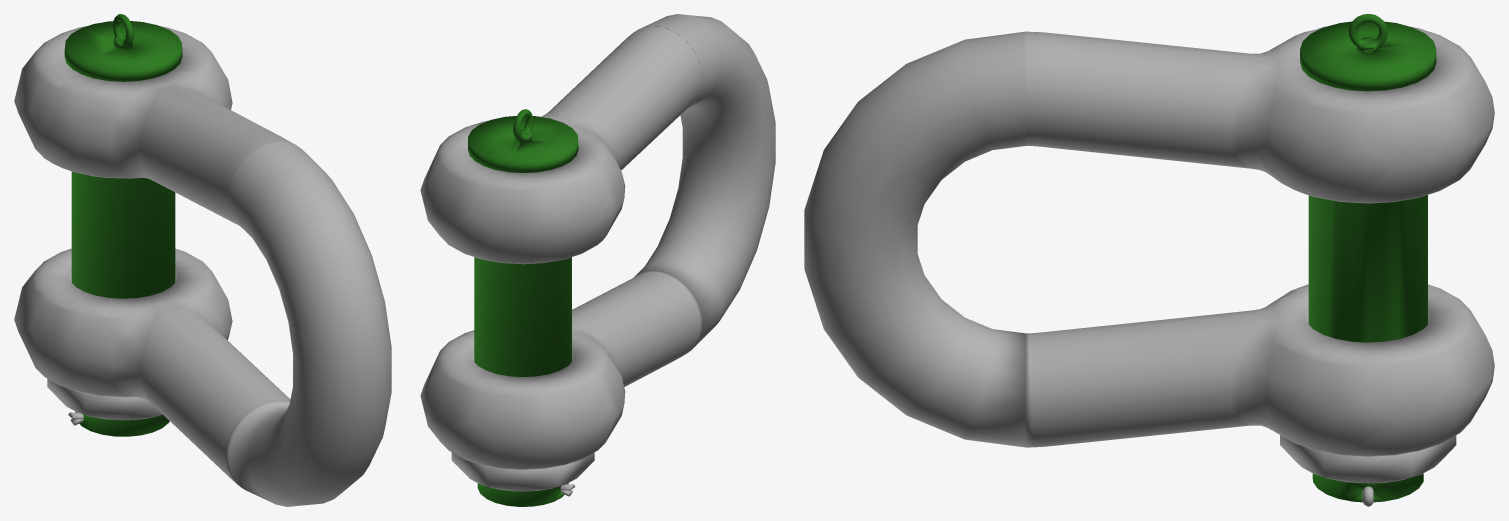
The picture shows the model from 3 angles, left to right: view 1: azimuth 30°, elevation 25°; view 2: azimuth 150°, elevation 25°; view 3: azimuth 270°, elevation 25°; orthographic projection. The views are drawn at different scales.
Parts seen in each view (by area): view 1: P-6036_800; view 2: P-6036_800; view 3: P-6036_800.
Boxes of the visible parts, x1,y1,x2,y2 form: P-6036_800: (14,14,391,506); P-6036_800: (420,14,775,506); P-6036_800: (804,14,1494,506).
Size of the model in its own units: 0.464 by 0.941 by 1.27.
